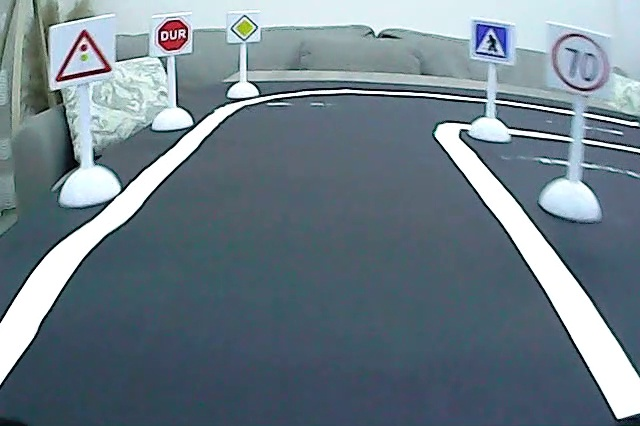pedestrian crossing: (472, 22, 512, 63)
red light: (52, 26, 115, 83)
speed limit 70: (548, 30, 611, 97)
stop sign: (155, 16, 193, 55)
